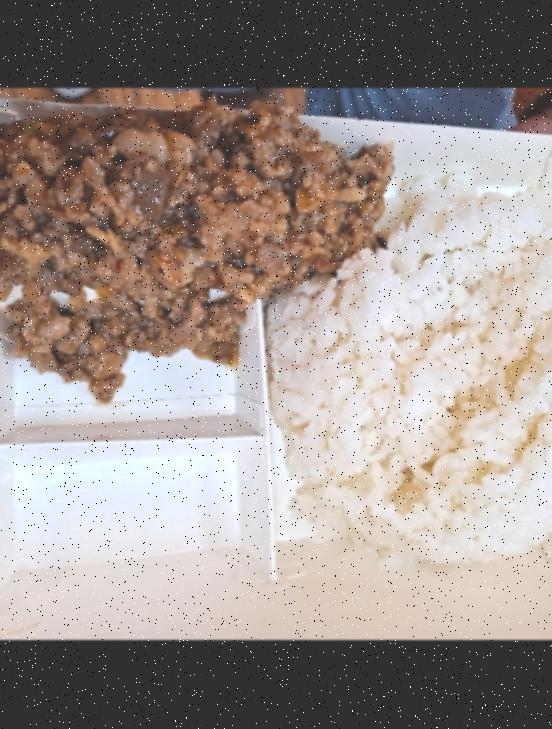big grilled chicken leg: (0, 98, 552, 620)
big herbal chicken leg: (268, 177, 552, 571)
braised pork: (0, 99, 403, 386)
